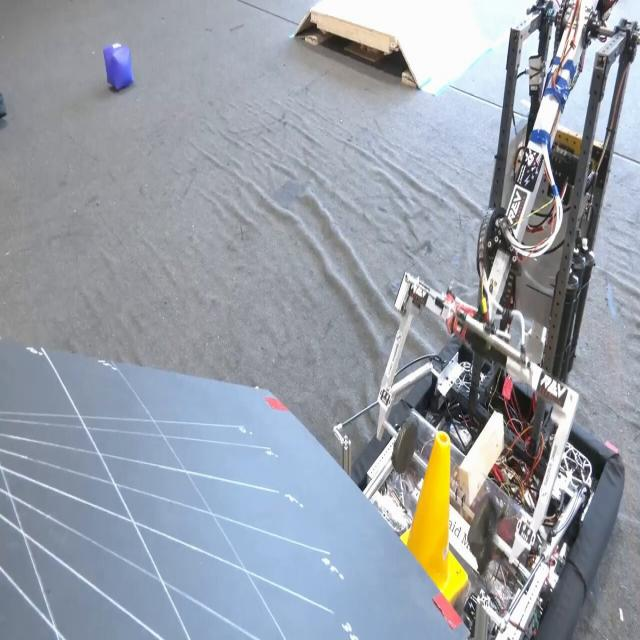frc_cone: (403, 433, 464, 590)
frc_cube: (104, 41, 134, 93)
